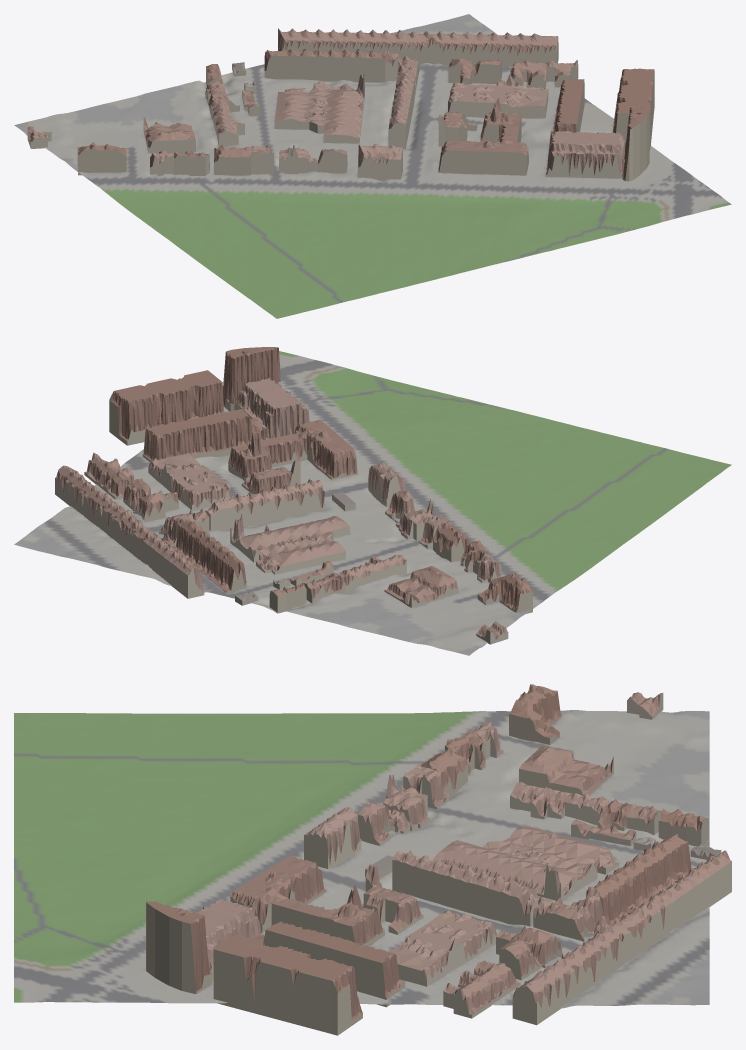
3 views of the same model, one above another, from view 1: azimuth 30°, elevation 25°; view 2: azimuth 150°, elevation 25°; view 3: azimuth 270°, elevation 25° (orthographic). The views are drawn at different scales.
Parts seen in each view (by area): view 1: ground, b:way/171285869, b:way/170821095, b:way/47379890, b:way/171285871, b:way/137012438, b:way/47379891, b:way/992027357, b:way/992027356, b:way/170821102, b:way/172005209, b:way/170821101 (+13 smaller); view 2: ground, b:way/171285869, b:way/992027357, b:way/47379890, b:way/170821095, b:way/992027358, b:way/172005209, b:way/47379891, b:way/171285871, b:way/137012438, b:way/992027356, b:way/170821092 (+13 smaller); view 3: ground, b:way/171285869, b:way/992027357, b:way/170821095, b:way/47379890, b:way/172005209, b:way/992027356, b:way/47379891, b:way/992027358, b:way/171285871, b:way/170821092, b:way/170821101 (+19 smaller).
Part boxes in pixels (bbox=[...]): ground: bbox=[14, 14, 731, 318]; b:way/171285869: bbox=[278, 28, 558, 66]; b:way/170821095: bbox=[274, 73, 364, 143]; b:way/47379890: bbox=[438, 97, 528, 175]; b:way/171285871: bbox=[264, 48, 385, 82]; b:way/137012438: bbox=[545, 131, 624, 178]; b:way/47379891: bbox=[448, 74, 548, 118]; b:way/992027357: bbox=[612, 68, 654, 150]; b:way/992027356: bbox=[622, 106, 649, 181]; b:way/170821102: bbox=[357, 144, 402, 180]; b:way/172005209: bbox=[388, 72, 415, 148]; b:way/170821101: bbox=[510, 60, 578, 87]; ground: bbox=[14, 351, 731, 655]; b:way/171285869: bbox=[55, 465, 204, 598]; b:way/992027357: bbox=[109, 370, 224, 445]; b:way/47379890: bbox=[228, 419, 357, 480]; b:way/170821095: bbox=[230, 514, 349, 574]; b:way/992027358: bbox=[142, 409, 265, 461]; b:way/172005209: bbox=[205, 479, 324, 530]; b:way/47379891: bbox=[148, 453, 231, 510]; b:way/171285871: bbox=[171, 519, 246, 592]; b:way/137012438: bbox=[234, 378, 309, 439]; b:way/992027356: bbox=[223, 347, 280, 411]; b:way/170821092: bbox=[384, 566, 458, 607]; ground: bbox=[14, 710, 709, 1008]; b:way/171285869: bbox=[512, 850, 731, 1025]; b:way/992027357: bbox=[213, 934, 362, 1035]; b:way/170821095: bbox=[432, 825, 619, 900]; b:way/47379890: bbox=[230, 856, 384, 946]; b:way/172005209: bbox=[392, 850, 543, 926]; b:way/992027356: bbox=[146, 901, 212, 993]; b:way/47379891: bbox=[389, 910, 497, 986]; b:way/992027358: bbox=[252, 921, 405, 1007]; b:way/171285871: bbox=[586, 833, 694, 925]; b:way/170821092: bbox=[519, 746, 613, 795]; b:way/170821101: bbox=[443, 960, 520, 1018].
Size of the model in its own units: 281 by 31.27 by 258.
